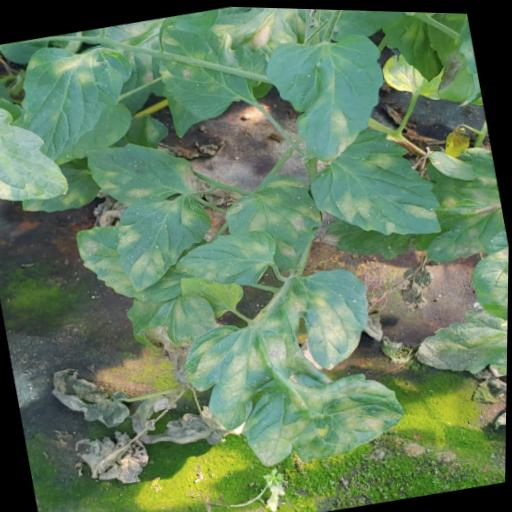Leaf Mold: (170, 254, 414, 484), (313, 134, 511, 283), (299, 112, 447, 253), (260, 23, 400, 170), (7, 30, 148, 167), (149, 3, 275, 125), (106, 182, 223, 296), (217, 167, 329, 281), (0, 46, 73, 212), (73, 212, 182, 314), (83, 130, 200, 212), (122, 278, 223, 368), (172, 223, 284, 298), (412, 305, 509, 379), (206, 5, 315, 65), (14, 154, 103, 219), (379, 41, 452, 107), (465, 242, 509, 322)
